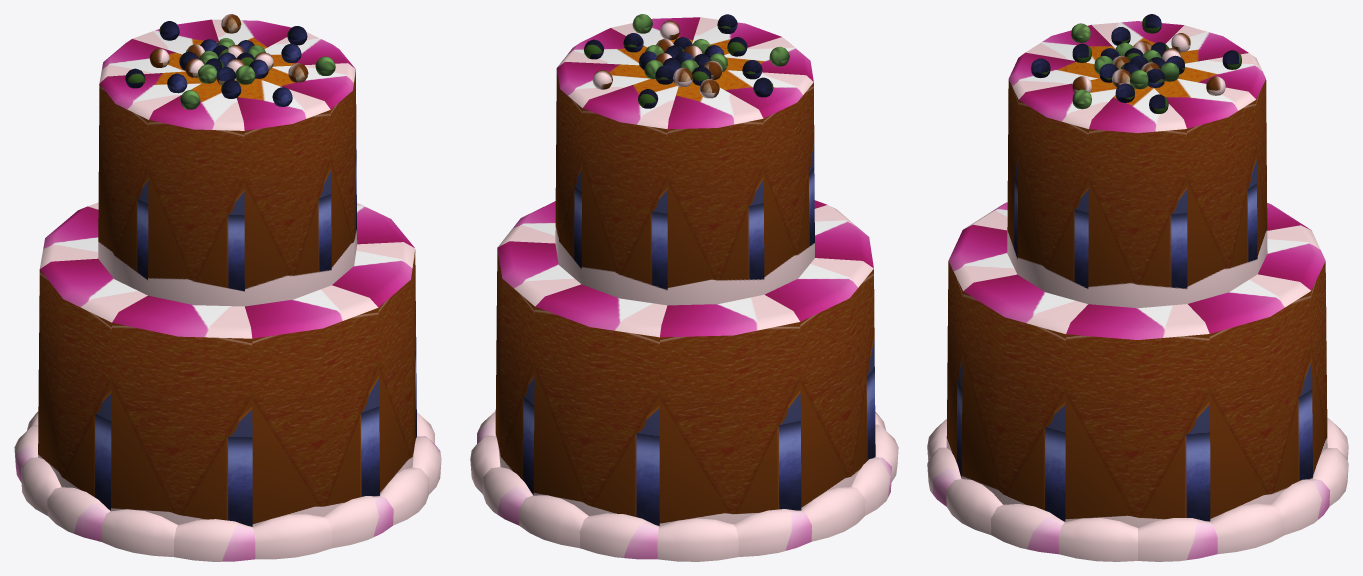
Rendered from Wedding_03_Whole.fbx.
3 renders of one model, left to right at view 1: azimuth 30°, elevation 25°; view 2: azimuth 150°, elevation 25°; view 3: azimuth 270°, elevation 25°, orthographic.
Visible parts, largest first — view 1: Wedding_03_Whole; view 2: Wedding_03_Whole; view 3: Wedding_03_Whole.
Part boxes in pixels (bbox=[...]): Wedding_03_Whole: bbox=[14, 14, 441, 561]; Wedding_03_Whole: bbox=[470, 14, 898, 561]; Wedding_03_Whole: bbox=[927, 14, 1348, 561].
Bounding box in the file's own units: 124 × 135 × 124.
